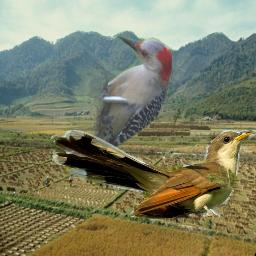Cuckoo: (51, 130, 256, 221)
Woodpecker: (74, 35, 172, 170)
